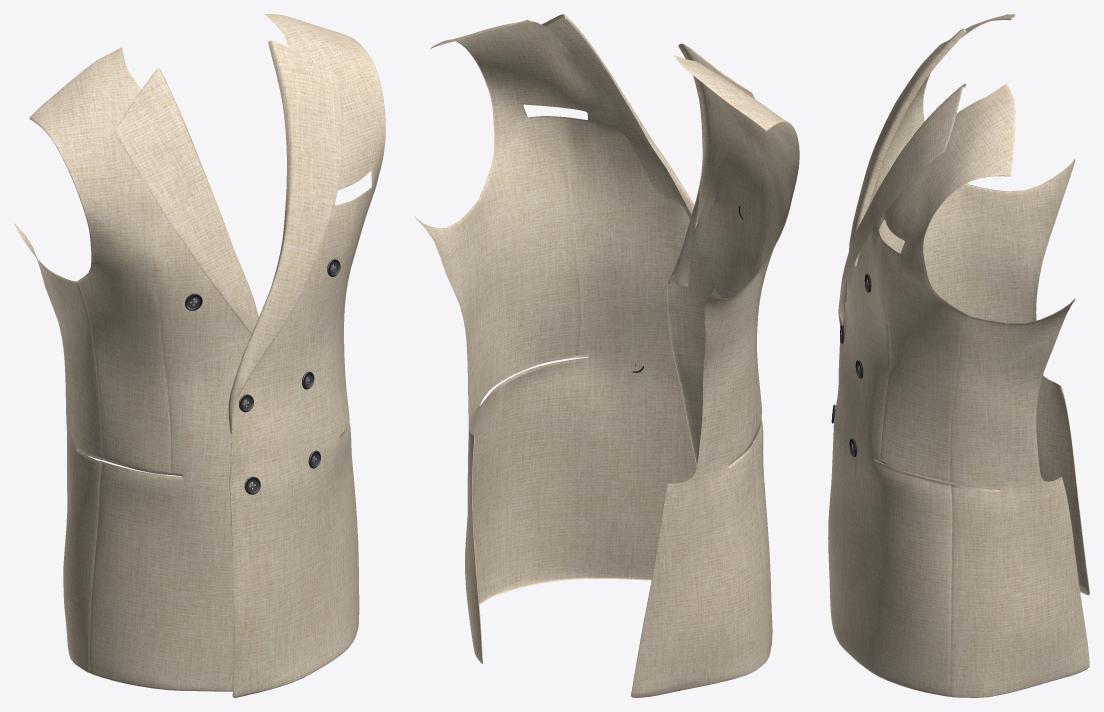
Rendered from doublebreastednoch.glb.
3 views of the same model, side by side, from view 1: azimuth 30°, elevation 25°; view 2: azimuth 150°, elevation 25°; view 3: azimuth 270°, elevation 25° (orthographic). The views are drawn at different scales.
Parts seen in each view (by area): view 1: noch_double_breasted_suit, double_breasted_buttons; view 2: noch_double_breasted_suit; view 3: noch_double_breasted_suit, double_breasted_buttons.
Boxes of the visible parts, x1,y1,x2,y2 form: noch_double_breasted_suit: (14, 14, 385, 697); double_breasted_buttons: (185, 259, 340, 494); noch_double_breasted_suit: (414, 14, 799, 697); noch_double_breasted_suit: (828, 14, 1089, 697); double_breasted_buttons: (831, 273, 871, 456).
Bounding box in the file's own units: 0.0585 × 0.1021 × 0.0414.
Materials: 3 (2 with a texture image).
